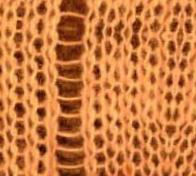slub: (54, 1, 97, 175)
